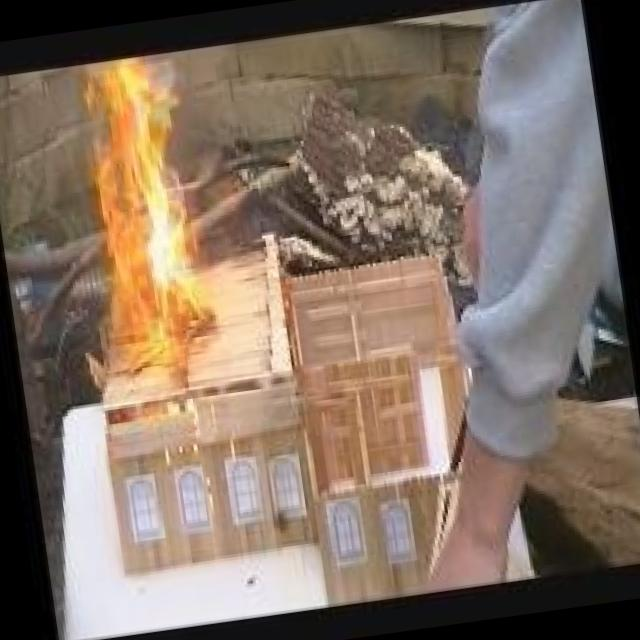fire: (59, 49, 226, 383)
